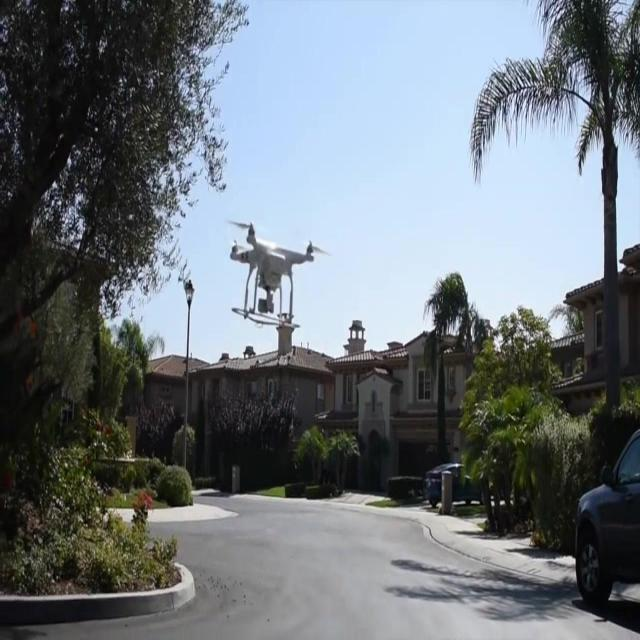drone: (227, 218, 327, 334)
